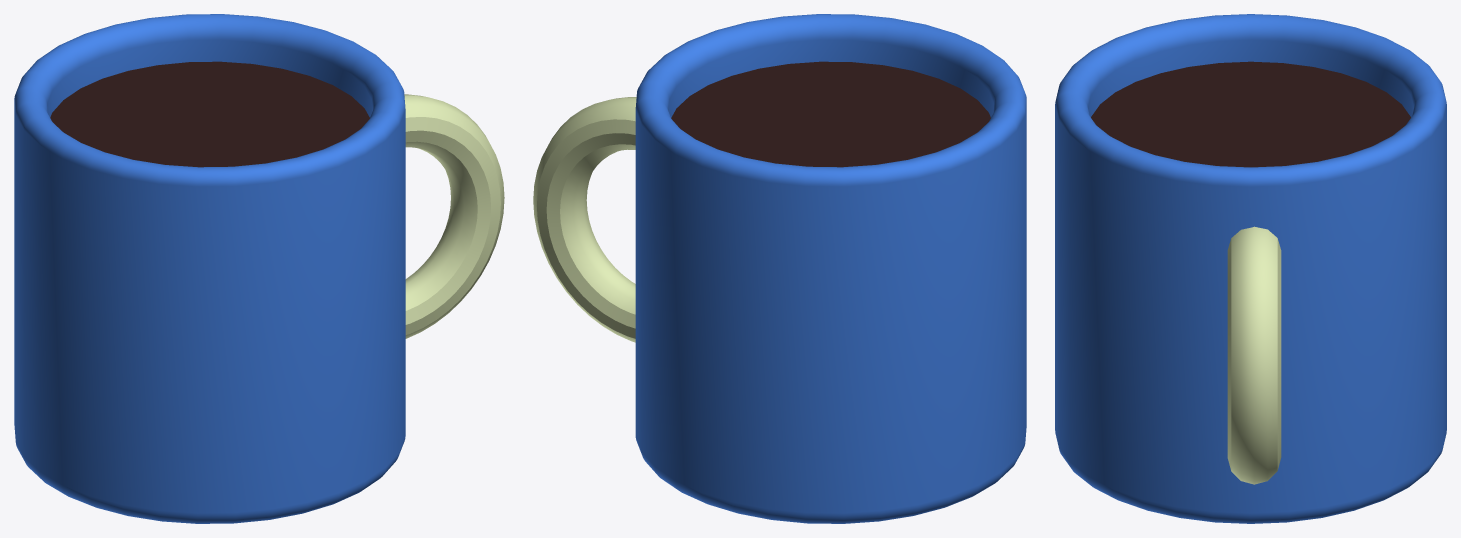
Rendered from cup.glb.
3 views of the same model, side by side, from view 1: azimuth 30°, elevation 25°; view 2: azimuth 150°, elevation 25°; view 3: azimuth 270°, elevation 25° (orthographic).
Visible parts, largest first — view 1: Cup; view 2: Cup; view 3: Cup.
Part boxes in pixels (x1=…): Cup: x1=14, y1=14, x2=504, y2=523; Cup: x1=533, y1=14, x2=1026, y2=523; Cup: x1=1055, y1=14, x2=1446, y2=523.
Bounding box in the file's own units: 2.72 × 2 × 2.
